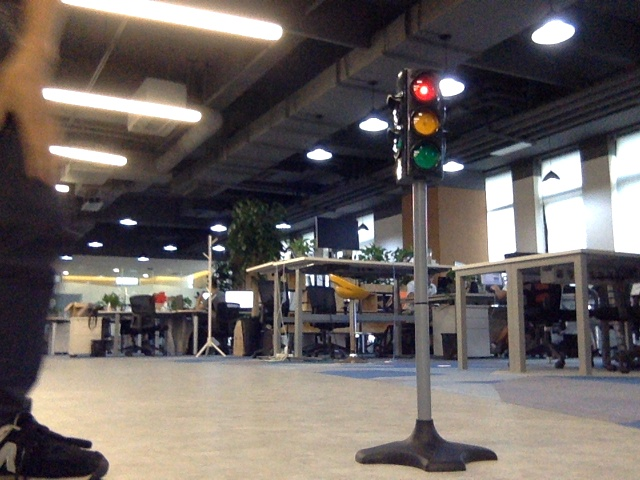red: (403, 72, 443, 171)
